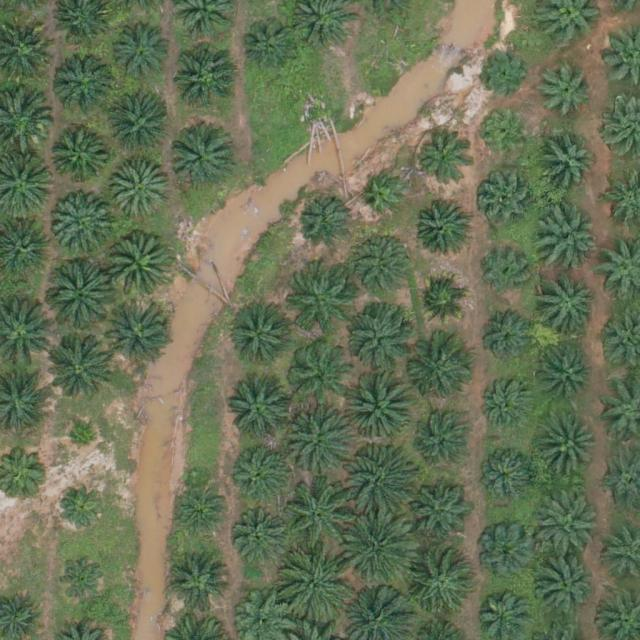Healthy: (346, 444, 417, 515), (345, 370, 416, 441), (534, 490, 604, 561), (406, 335, 476, 406), (407, 554, 477, 625), (346, 514, 417, 584), (346, 299, 417, 369), (286, 479, 356, 550), (283, 551, 353, 622), (104, 231, 174, 302), (44, 261, 114, 332), (42, 334, 112, 405), (282, 408, 352, 478), (102, 299, 172, 369), (539, 207, 602, 270), (475, 522, 538, 585), (284, 272, 347, 335), (229, 438, 292, 501), (229, 381, 292, 444), (110, 160, 173, 223), (54, 49, 117, 112), (537, 135, 600, 197), (538, 272, 600, 335), (535, 556, 598, 618), (408, 484, 470, 547), (288, 342, 350, 405), (233, 302, 295, 365), (168, 551, 230, 614), (169, 129, 231, 192), (109, 99, 172, 161), (47, 126, 109, 189), (51, 193, 113, 256), (534, 60, 596, 123), (174, 47, 237, 109), (109, 21, 172, 83), (540, 418, 602, 480), (476, 446, 538, 508), (351, 231, 413, 293), (231, 502, 293, 564), (57, 552, 112, 608), (539, 345, 594, 400), (478, 108, 533, 163), (478, 171, 533, 226), (480, 244, 535, 299), (481, 314, 536, 369), (481, 380, 536, 435), (417, 134, 472, 189), (55, 479, 110, 534), (298, 194, 353, 249), (172, 481, 227, 536), (478, 46, 533, 101), (243, 17, 298, 72), (415, 200, 469, 255), (415, 274, 469, 329), (413, 412, 467, 467)
Small: (362, 173, 409, 220), (68, 426, 99, 457)
